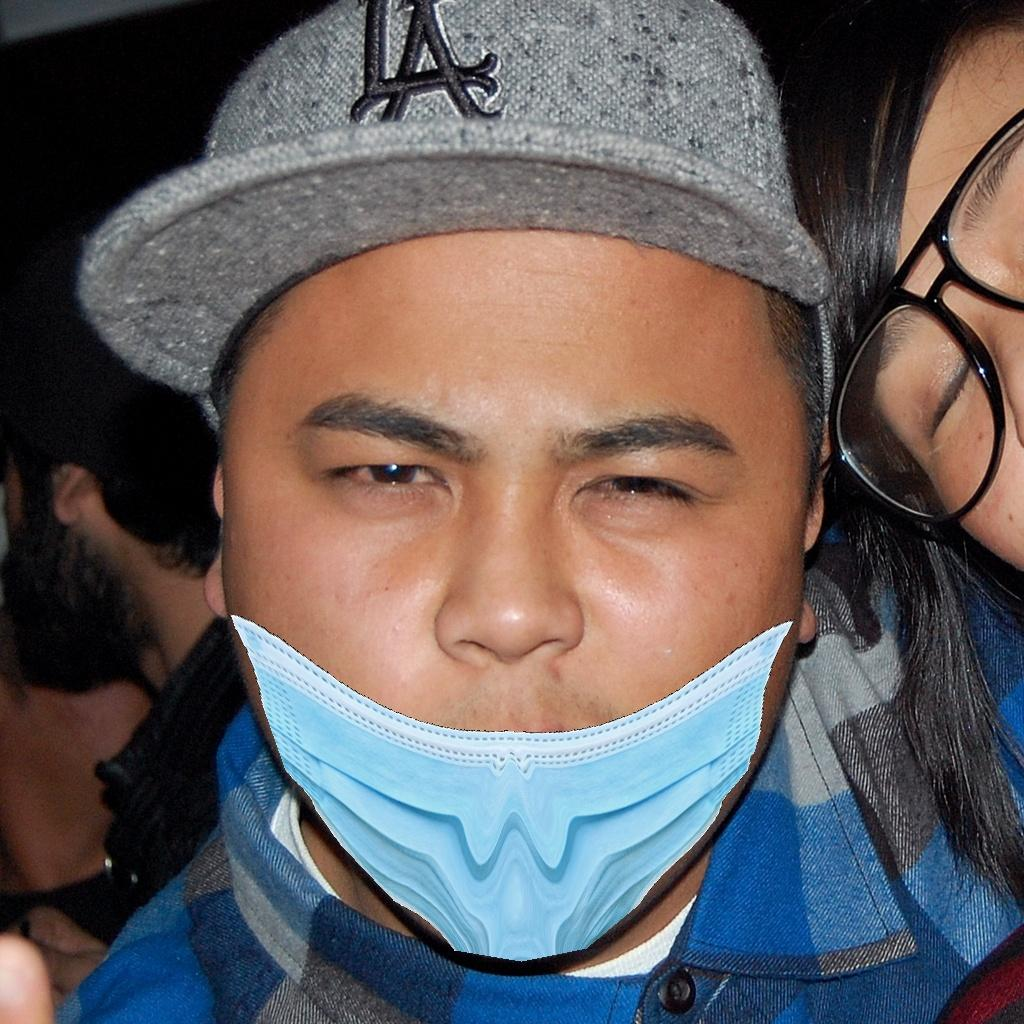Máscara Incorreta: (235, 246, 795, 941)
